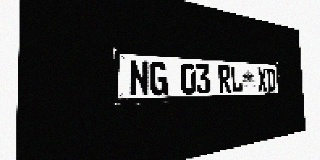0: (180, 63, 196, 95)
3: (196, 64, 210, 94)
D: (266, 68, 276, 91)
G: (149, 61, 168, 96)
L: (230, 66, 242, 93)
N: (129, 60, 149, 97)
R: (218, 65, 231, 93)
X: (257, 67, 267, 92)
